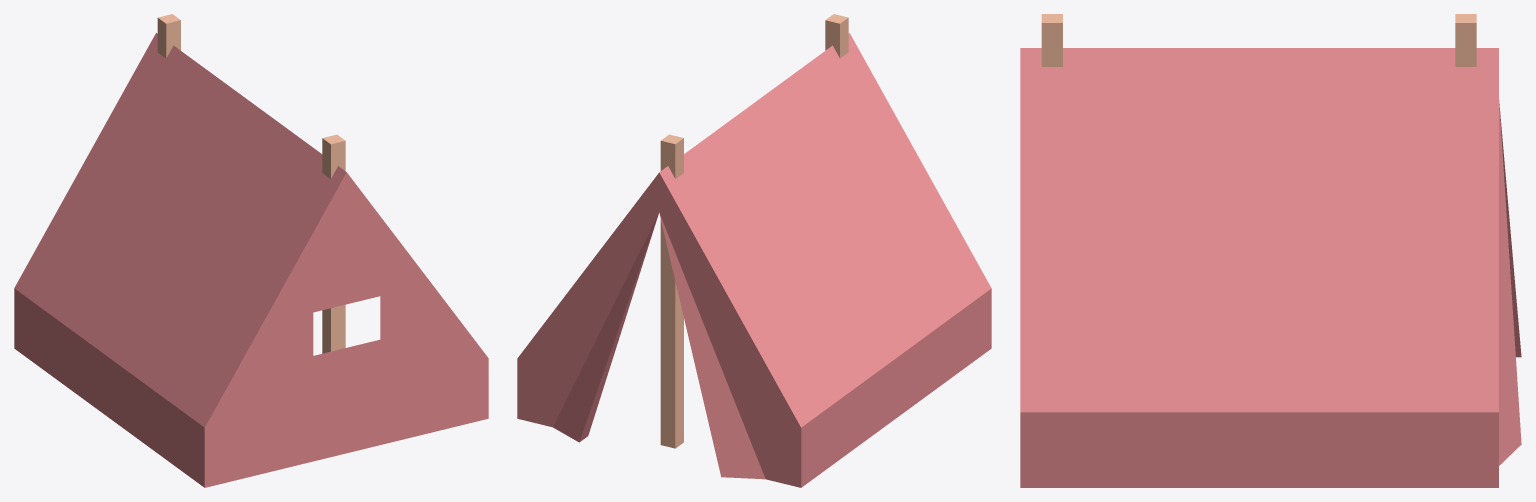
File: kenney-nature__tent_smallOpen.glb
The picture shows the model from 3 angles, left to right: view 1: azimuth 30°, elevation 25°; view 2: azimuth 150°, elevation 25°; view 3: azimuth 270°, elevation 25°; orthographic projection. The views are drawn at different scales.
Visible parts, largest first — view 1: tent_smallOpen; view 2: tent_smallOpen; view 3: tent_smallOpen.
Boxes of the visible parts, left/top/right/bottom form: tent_smallOpen: left=14, top=14, right=488, bottom=487; tent_smallOpen: left=517, top=14, right=991, bottom=487; tent_smallOpen: left=1020, top=14, right=1521, bottom=487.
Size of the model in its own units: 0.5476 by 0.5611 by 0.6664.
